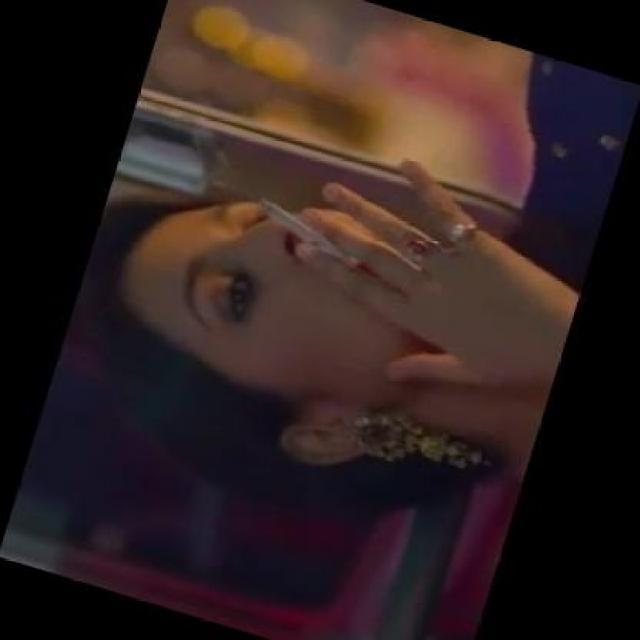cigarette: (244, 190, 366, 272)
